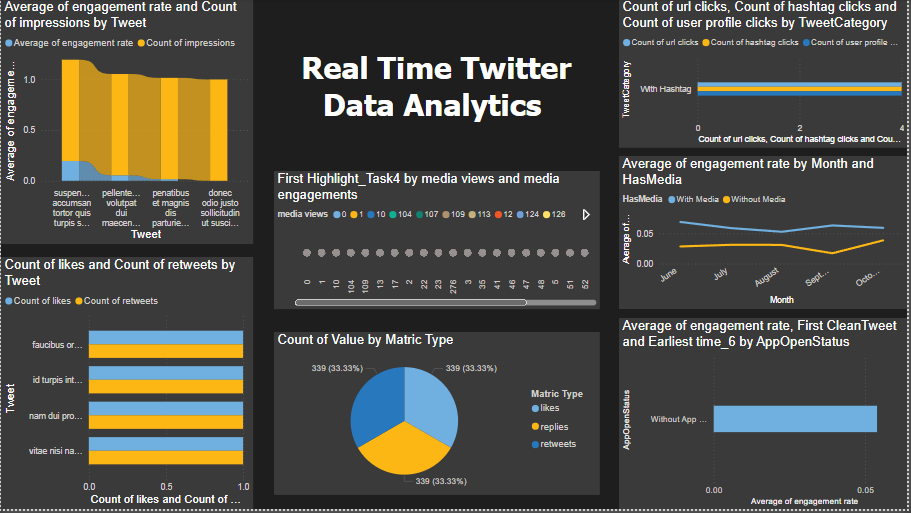

The dashboard page shown, as its layout file describes it:
{"tool":"powerbi","page":{"name":"Page 1","canvas":[1280,720],"ordinal":0},"visuals":[{"type":"ribbonChart","fields":{"Category":["Task 1.Tweet"],"Y":["Avg(Task 1.engagement rate)","CountNonNull(Task 1.impressions)"]},"box":[0,0,356.1,346],"z":0},{"type":"clusteredBarChart","fields":{"Category":["Task 2.TweetCategory"],"Y":["CountNonNull(Task 2.url clicks)","CountNonNull(Task 2.hashtag clicks)","CountNonNull(Task 2.user profile clicks)"]},"box":[872.5,0,408,210.4],"z":1000},{"type":"clusteredBarChart","fields":{"Category":["Task 2.Tweet"],"Y":["CountNonNull(Task 2.likes)","CountNonNull(Task 2.retweets)"]},"box":[0,364.2,355.8,355.8],"z":2000},{"type":"scatterChart","fields":{"Series":["Task 4.media views"],"X":["Task 4.media engagements"]},"box":[385.4,242.8,460.2,194.8],"z":3000},{"type":"lineChart","fields":{"Category":["Task 5.time_5.Variation.Date Hierarchy.Month"],"Y":["Avg(Task 5.engagement rate)"],"Series":["Task 5.HasMedia"]},"box":[872.5,221.6,406.6,216],"z":4000},{"type":"clusteredBarChart","fields":{"Category":["Task 6.AppOpenStatus"],"Y":["Avg(Task 6.engagement rate)"]},"box":[871.8,450.2,408.2,270.4],"z":5000},{"type":"pieChart","fields":{"Category":["Task 7.Matric Type"],"Y":["CountNonNull(Task 7.Value)"]},"box":[385.4,470.1,460.2,230.1],"z":6000},{"type":"textbox","box":[399.5,64.9,430.6,131.3],"z":7000}]}

Visuals, with their boxes in screenshot pixels (x1, y1, x2, y2), scaled from the page's 1280x720 canvas onto the 911x513 screenshot:
ribbonChart - Task 1.Tweet x Avg(Task 1.engagement rate): bbox(0, 0, 253, 247)
clusteredBarChart - Task 2.TweetCategory x CountNonNull(Task 2.url clicks): bbox(621, 0, 910, 150)
clusteredBarChart - Task 2.Tweet x CountNonNull(Task 2.likes): bbox(0, 259, 253, 512)
scatterChart - Task 4.media views x Task 4.media engagements: bbox(274, 173, 602, 312)
lineChart - Task 5.time_5.Variation.Date Hierarchy.Month x Avg(Task 5.engagement rate): bbox(621, 158, 910, 312)
clusteredBarChart - Task 6.AppOpenStatus x Avg(Task 6.engagement rate): bbox(620, 321, 910, 512)
pieChart - Task 7.Matric Type x CountNonNull(Task 7.Value): bbox(274, 335, 602, 499)
textbox: bbox(284, 46, 591, 140)
